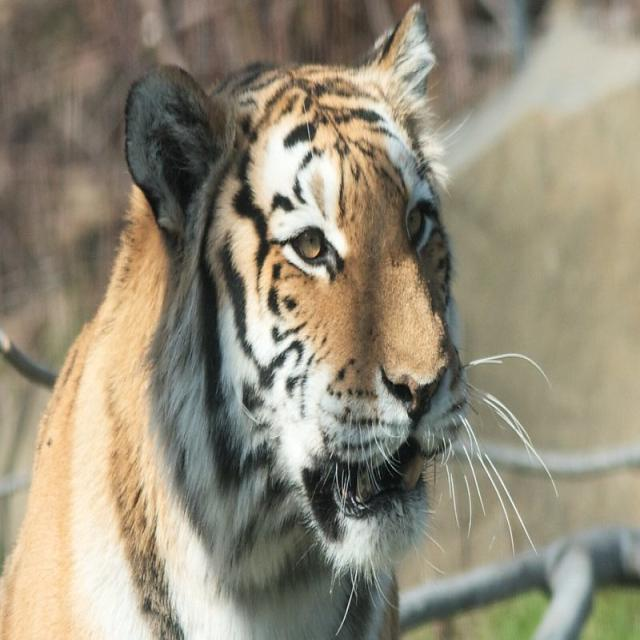Tiger: (1, 1, 542, 635)
